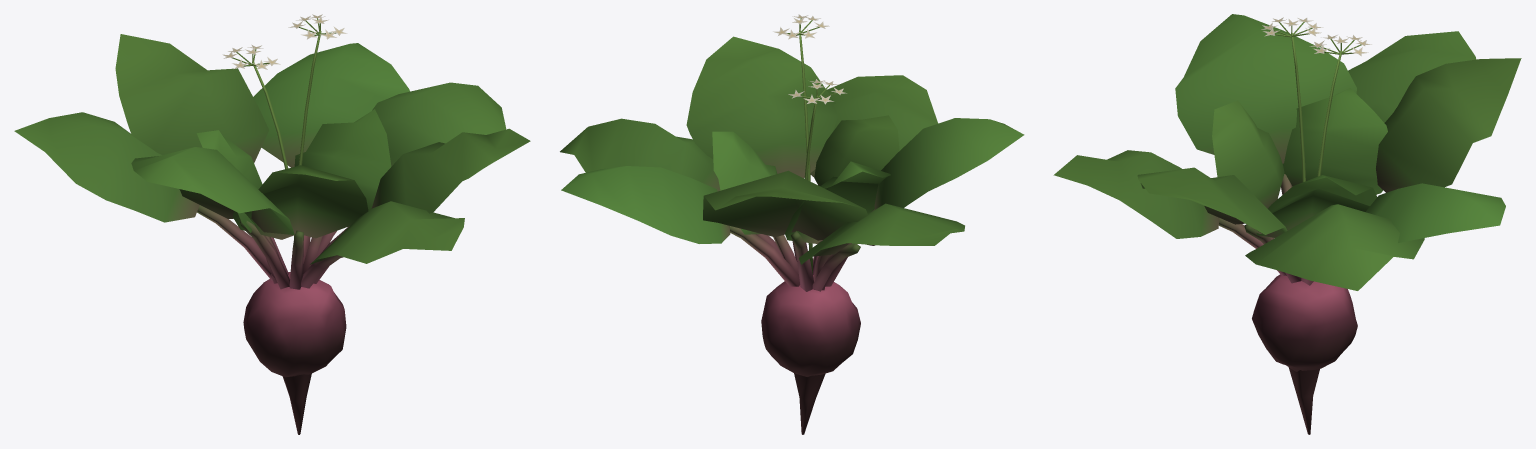
The model's file is crop_tuber_s3.glb.
The picture shows the model from 3 angles, left to right: view 1: azimuth 30°, elevation 25°; view 2: azimuth 150°, elevation 25°; view 3: azimuth 270°, elevation 25°; orthographic projection. The views are drawn at different scales.
Visible parts, largest first — view 1: Crop_Tuber_S3; view 2: Crop_Tuber_S3; view 3: Crop_Tuber_S3.
Boxes of the visible parts, bbox=[...] form: Crop_Tuber_S3: bbox=[14, 14, 530, 434]; Crop_Tuber_S3: bbox=[560, 14, 1024, 434]; Crop_Tuber_S3: bbox=[1053, 14, 1521, 434].
Size of the model in its own units: 0.7156 by 0.6534 by 0.6626.
